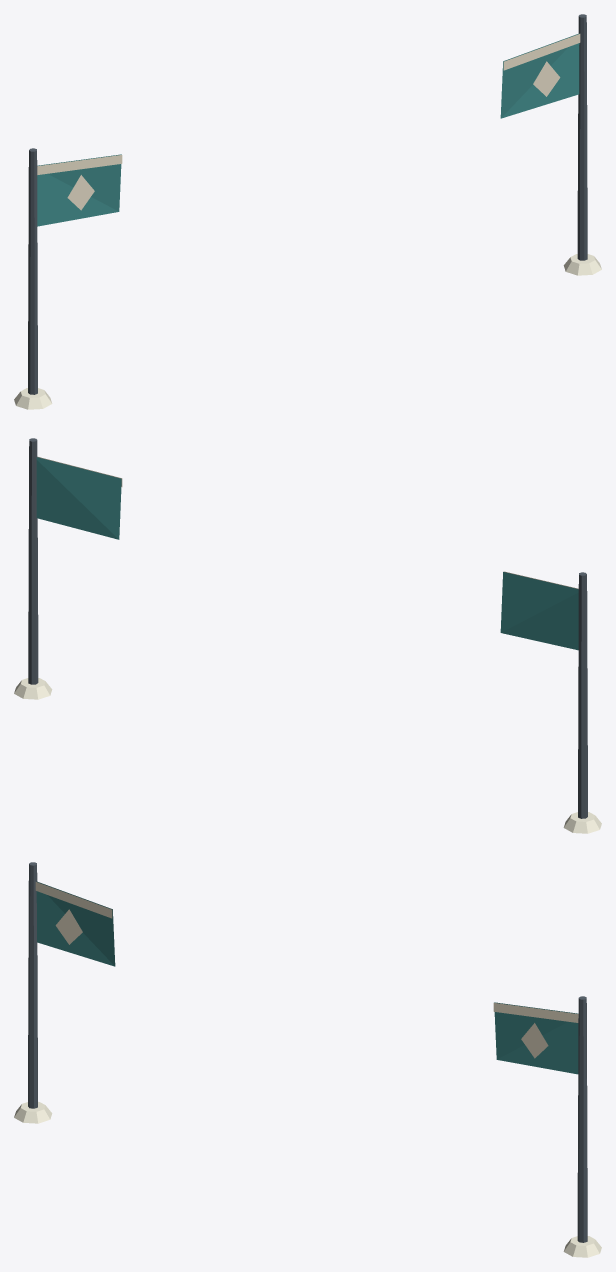
Rendered from gate-teal.glb.
The picture shows the model from 3 angles, top to bottom: view 1: azimuth 30°, elevation 25°; view 2: azimuth 150°, elevation 25°; view 3: azimuth 330°, elevation 25°; orthographic projection.
Visible parts, largest first — view 1: gate-teal; view 2: gate-teal; view 3: gate-teal.
Boxes of the visible parts, x1,y1,x2,y2 form: gate-teal: (14, 14, 601, 409); gate-teal: (14, 438, 601, 833); gate-teal: (14, 862, 601, 1257).
Bounding box in the file's own units: 6.8 × 2.8 × 0.4.
